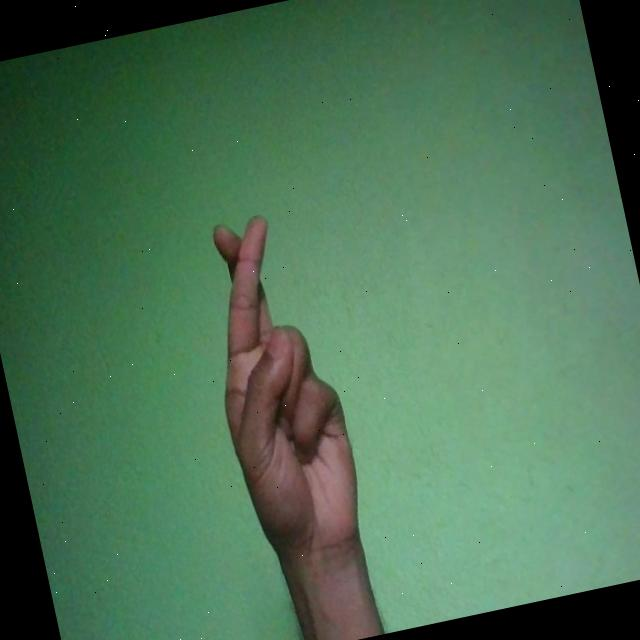Ok: (185, 204, 373, 570)
